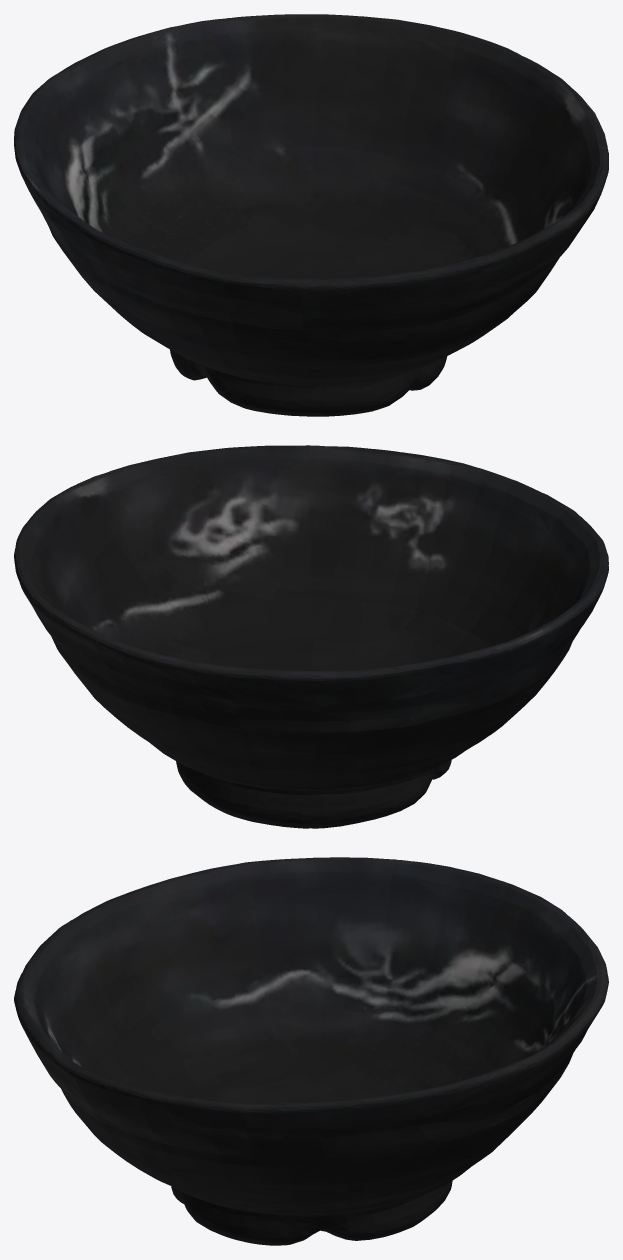
The picture shows the model from 3 angles, top to bottom: view 1: azimuth 30°, elevation 25°; view 2: azimuth 150°, elevation 25°; view 3: azimuth 270°, elevation 25°; orthographic projection.
Visible parts, largest first — view 1: world; view 2: world; view 3: world.
Boxes of the visible parts, left/top/right/bottom form: world: left=14, top=14, right=608, bottom=416; world: left=14, top=445, right=608, bottom=828; world: left=14, top=857, right=608, bottom=1245.
Bounding box in the file's own units: 0.9895 × 0.4196 × 1.
1 material, 1 textured.
